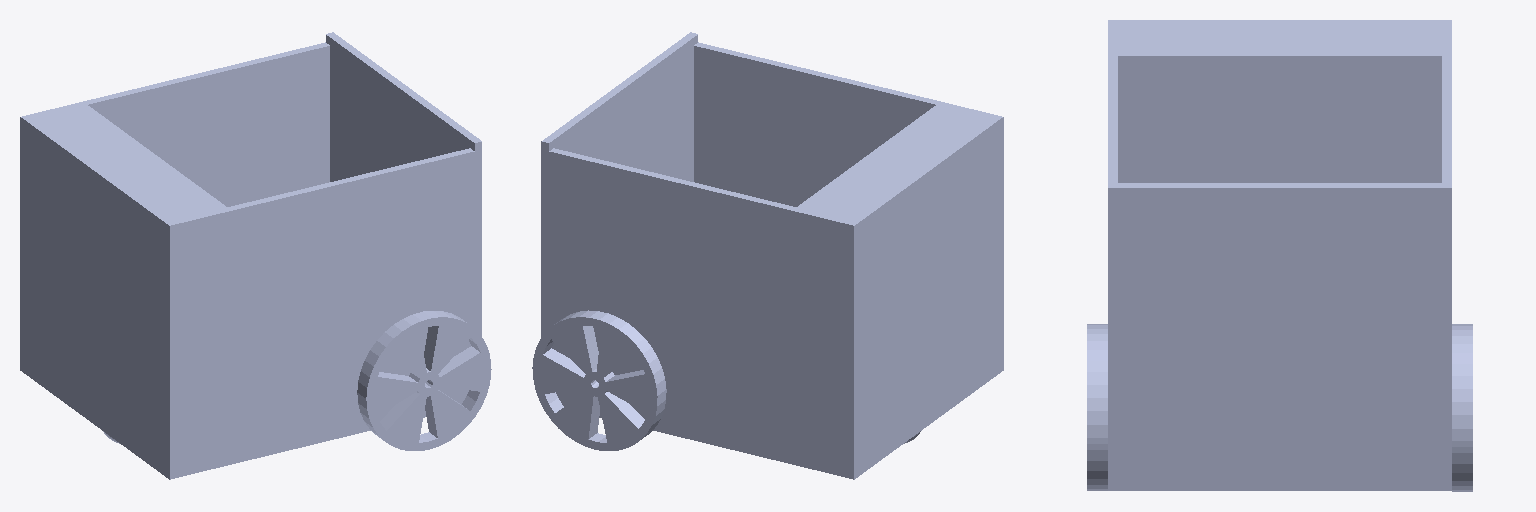
URDF robot description (box_robot_1):
<?xml version="1.0" encoding="utf-8"?>
<!-- This URDF was automatically created by SolidWorks to URDF Exporter! Originally created by [author] ([email redacted]) 
     Commit Version: 1.6.0-1-g15f4949  Build Version: 1.6.7594.29634
     For more information, please see http://wiki.ros.org/sw_urdf_exporter -->
<robot
  name="box_robot_1">
  <link
    name="base_link">
    <inertial>
      <origin
        xyz="-0.12079 0.15582 -3.351E-16"
        rpy="0 0 0" />
      <mass
        value="8" />
      <inertia
        ixx="0.20526"
        ixy="0.00027898"
        ixz="-1.159E-17"
        iyy="0.21001"
        iyz="1.1924E-17"
        izz="0.16522" />
    </inertial>
    <visual>
      <origin
        xyz="0 0 0"
        rpy="0 0 0" />
      <geometry>
        <mesh
          filename="package://box_robot_1/meshes/base_link.STL" />
      </geometry>
      <material
        name="">
        <color
          rgba="0.79216 0.81961 0.93333 1" />
      </material>
    </visual>
    <collision>
      <origin
        xyz="0 0 0"
        rpy="0 0 0" />
      <geometry>
        <mesh
          filename="package://box_robot_1/meshes/base_link.STL" />
      </geometry>
    </collision>
  </link>
  <link
    name="castor_link">
    <inertial>
      <origin
        xyz="7.6328E-17 6.9389E-18 0"
        rpy="0 0 0" />
      <mass
        value="1" />
      <inertia
        ixx="4.0715E-05"
        ixy="0"
        ixz="-4.2352E-22"
        iyy="4.0715E-05"
        iyz="-6.3527E-22"
        izz="4.0715E-05" />
    </inertial>
    <visual>
      <origin
        xyz="0 0 0"
        rpy="0 0 0" />
      <geometry>
        <mesh
          filename="package://box_robot_1/meshes/castor_link.STL" />
      </geometry>
      <material
        name="">
        <color
          rgba="0.79216 0.81961 0.93333 1" />
      </material>
    </visual>
    <collision>
      <origin
        xyz="0 0 0"
        rpy="0 0 0" />
      <geometry>
        <mesh
          filename="package://box_robot_1/meshes/castor_link.STL" />
      </geometry>
    </collision>
  </link>
  <joint
    name="castor_joint"
    type="continuous">
    <origin
      xyz="-0.16 0 0"
      rpy="1.7421 0.25246 -1.6942" />
    <parent
      link="base_link" />
    <child
      link="castor_link" />
    <axis
      xyz="0 0 1" />
    <dynamics
      damping="0"
      friction="0" />
  </joint>
  <link
    name="right_link">
    <inertial>
      <origin
        xyz="0 0 0.01"
        rpy="0 0 0" />
      <mass
        value="4" />
      <inertia
        ixx="0.00052803"
        ixy="0"
        ixz="1.9565E-20"
        iyy="0.00052803"
        iyz="-9.7809E-20"
        izz="0.0010359" />
    </inertial>
    <visual>
      <origin
        xyz="0 0 0"
        rpy="0 0 0" />
      <geometry>
        <mesh
          filename="package://box_robot_1/meshes/right_link.STL" />
      </geometry>
      <material
        name="">
        <color
          rgba="0.79216 0.81961 0.93333 1" />
      </material>
    </visual>
    <collision>
      <origin
        xyz="0 0 0"
        rpy="0 0 0" />
      <geometry>
        <mesh
          filename="package://box_robot_1/meshes/right_link.STL" />
      </geometry>
    </collision>
  </link>
  <joint
    name="right_joint"
    type="continuous">
    <origin
      xyz="0.12 -0.165 0.05"
      rpy="1.5708 0.0081643 0" />
    <parent
      link="base_link" />
    <child
      link="right_link" />
    <axis
      xyz="0 0 1" />
  </joint>
  <link
    name="left_link">
    <inertial>
      <origin
        xyz="-6.9389E-17 -4.1633E-17 -0.34"
        rpy="0 0 0" />
      <mass
        value="4" />
      <inertia
        ixx="0.00052803"
        ixy="4.7434E-20"
        ixz="1.1116E-20"
        iyy="0.00052803"
        iyz="-9.6357E-20"
        izz="0.0010359" />
    </inertial>
    <visual>
      <origin
        xyz="0 0 0"
        rpy="0 0 0" />
      <geometry>
        <mesh
          filename="package://box_robot_1/meshes/left_link.STL" />
      </geometry>
      <material
        name="">
        <color
          rgba="0.79216 0.81961 0.93333 1" />
      </material>
    </visual>
    <collision>
      <origin
        xyz="0 0 0"
        rpy="0 0 0" />
      <geometry>
        <mesh
          filename="package://box_robot_1/meshes/left_link.STL" />
      </geometry>
    </collision>
  </link>
  <joint
    name="left_joint"
    type="continuous">
    <origin
      xyz="0.12 -0.165 0.05"
      rpy="1.5708 0.054175 0" />
    <parent
      link="base_link" />
    <child
      link="left_link" />
    <axis
      xyz="0 0 1" />
  </joint>
  <link
    name="slider_link">
    <inertial>
      <origin
        xyz="0.155 -0.16031 -0.005"
        rpy="0 0 0" />
      <mass
        value="0.994" />
      <inertia
        ixx="0.0085213"
        ixy="-3.0161E-18"
        ixz="-6.0638E-19"
        iyy="0.0080038"
        iyz="8.6553E-19"
        izz="0.016509" />
    </inertial>
    <visual>
      <origin
        xyz="0 0 0"
        rpy="0 0 0" />
      <geometry>
        <mesh
          filename="package://box_robot_1/meshes/slider_link.STL" />
      </geometry>
      <material
        name="">
        <color
          rgba="0.79216 0.81961 0.93333 1" />
      </material>
    </visual>
    <collision>
      <origin
        xyz="0 0 0"
        rpy="0 0 0" />
      <geometry>
        <mesh
          filename="package://box_robot_1/meshes/slider_link.STL" />
      </geometry>
    </collision>
  </link>
  <joint
    name="slider_joint"
    type="prismatic">
    <origin
      xyz="0.2 0.155 0"
      rpy="-1.5708 0 -1.5708" />
    <parent
      link="base_link" />
    <child
      link="slider_link" />
    <axis
      xyz="0 1 0" />
    <limit
      lower="-0.3"
      upper="0"
      effort="1000"
      velocity="0.5" />
    <dynamics
      damping="0"
      friction="0" />
  </joint>
  <gazebo>
    <plugin filename="libgazebo_ros_diff_drive.so" name="differential_drive_controller">
      <alwaysOn>true</alwaysOn>
      <updateRate>20</updateRate>
      <leftJoint>left_joint</leftJoint>
      <rightJoint>right_joint</rightJoint>
      <wheelSeparation>0.330</wheelSeparation>
      <wheelDiameter>0.16</wheelDiameter>
      <torque>8</torque>
      <commandTopic>cmd_vel</commandTopic>
      <odometryTopic>odom</odometryTopic>
      <odometryFrame>odom</odometryFrame>
      <robotBaseFrame>base_link</robotBaseFrame>
    </plugin>
  </gazebo>
</robot>

--- Render facts (derived) ---
Views: 3 orthographic renders of the robot side by side, from view 1: azimuth 30°, elevation 25°; view 2: azimuth 150°, elevation 25°; view 3: azimuth 270°, elevation 25°.
Robot: box_robot_1 — 5 links, 4 joints (3 continuous, 1 prismatic); root link base_link; default pose: every joint at zero.
Links seen in each view (by area): view 1: base_link, right_link, slider_link; view 2: base_link, left_link, slider_link; view 3: slider_link, base_link, left_link, right_link.
Boxes of the visible links, <box> form: base_link: <box>20,42,481,479</box>; right_link: <box>357,311,491,450</box>; slider_link: <box>326,32,481,181</box>; base_link: <box>541,42,1003,479</box>; left_link: <box>532,310,666,450</box>; slider_link: <box>541,32,697,181</box>; slider_link: <box>1108,183,1451,490</box>; base_link: <box>1108,20,1451,490</box>; left_link: <box>1452,324,1472,491</box>; right_link: <box>1087,324,1107,490</box>.
Bounding box of the posed robot: 0.4 × 0.37 × 0.35 m (x, y, z).
Meshes: 5 distinct files referenced, 5 mesh visuals loaded (5 binary STL).